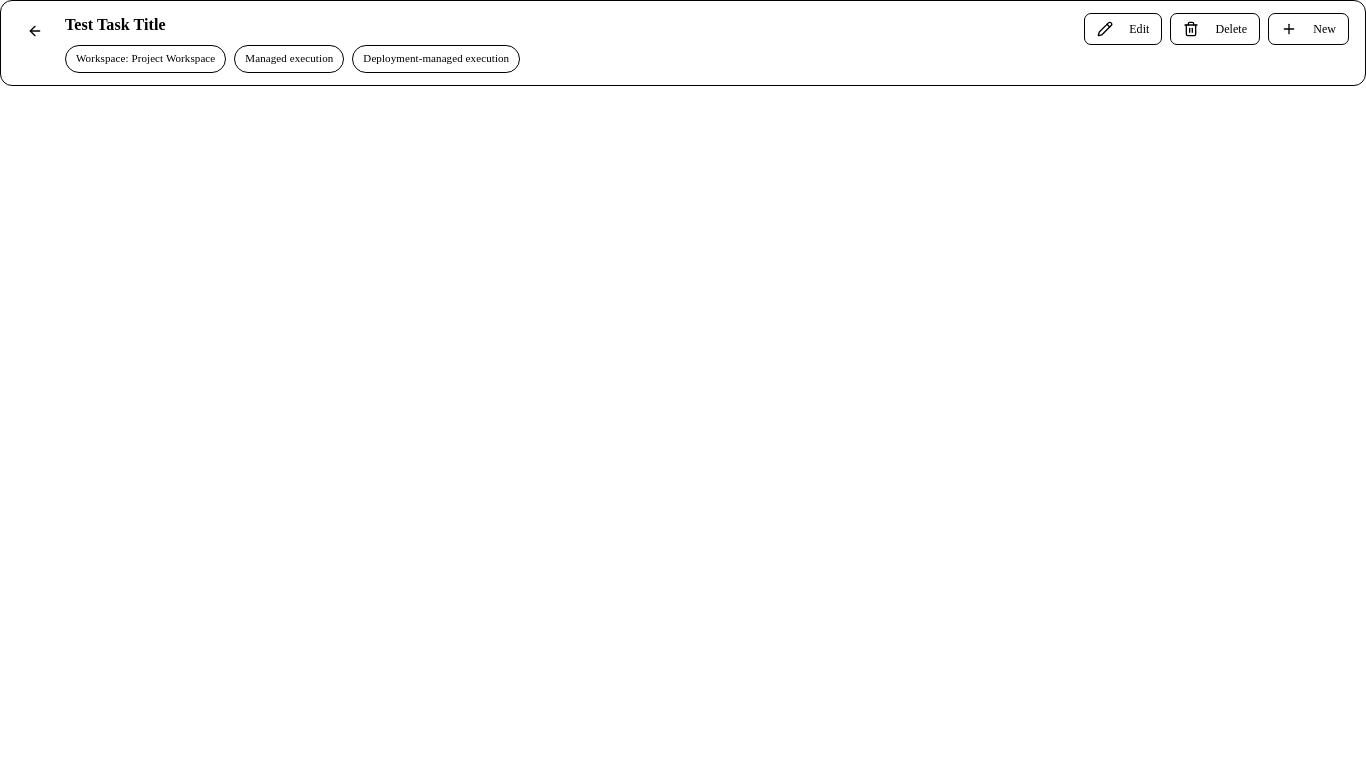
Test: TaskHeader › Delete Button › closes dialog when cancel is clicked
This screenshot has width=1366, height=768.
Click the button "Delete" at (1215, 29), box [1170, 13, 1260, 45]
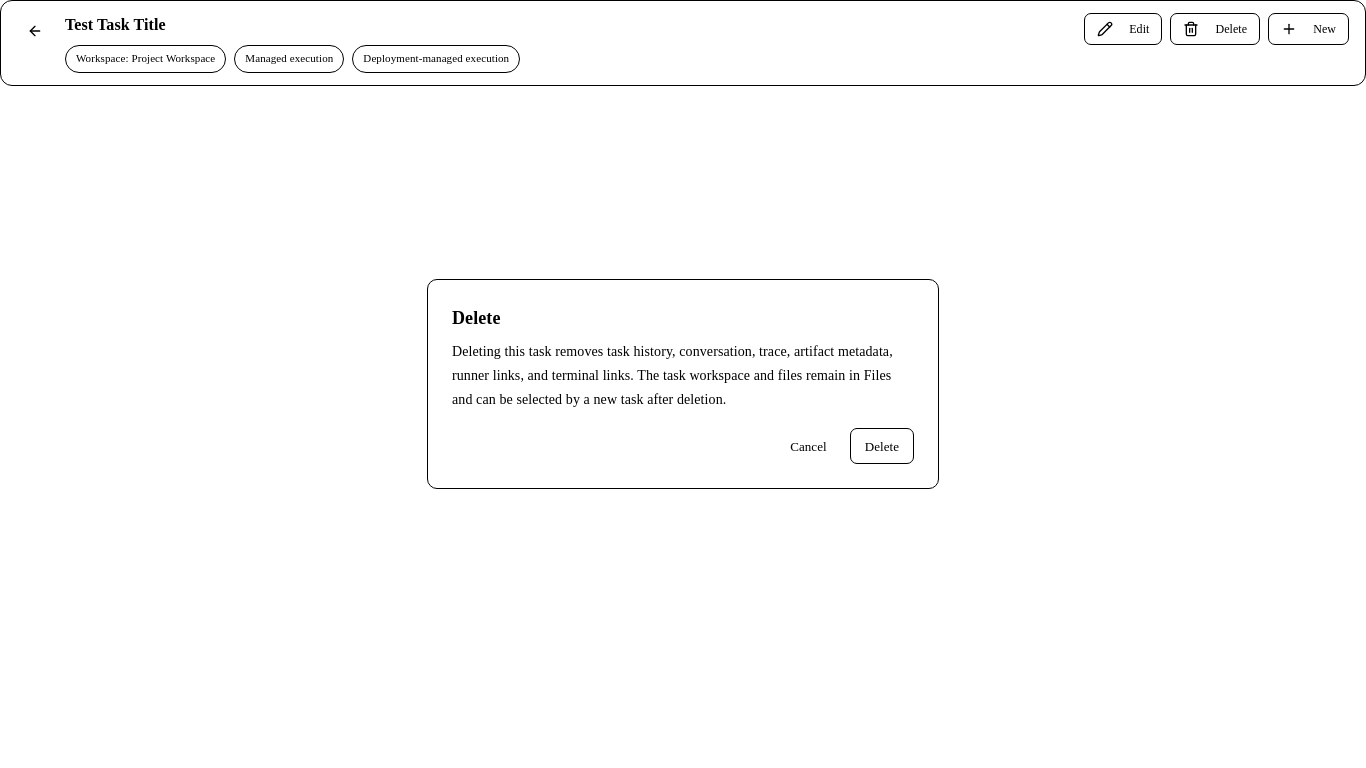
Click the button "Cancel" at (808, 446), box [775, 428, 842, 464]
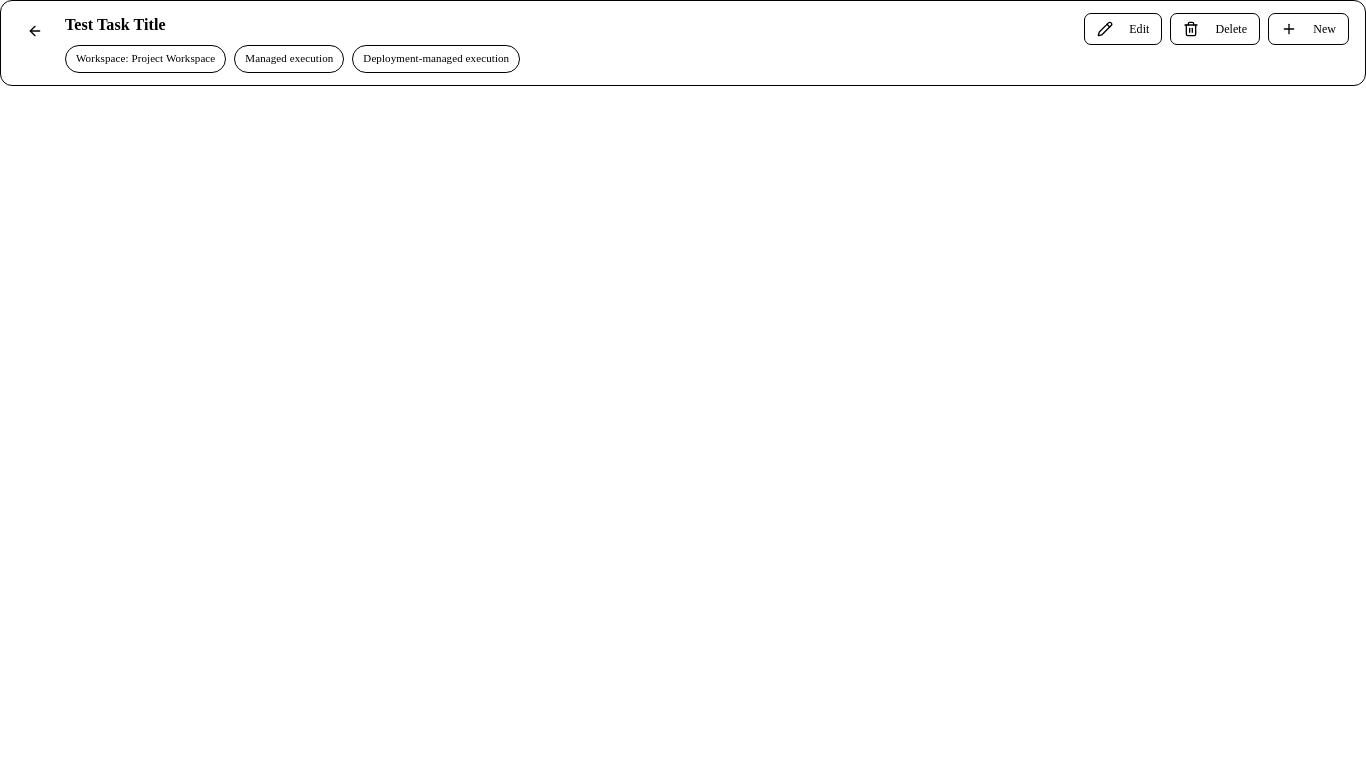
Now the text "The task workspace and files remain in Files" is gone
